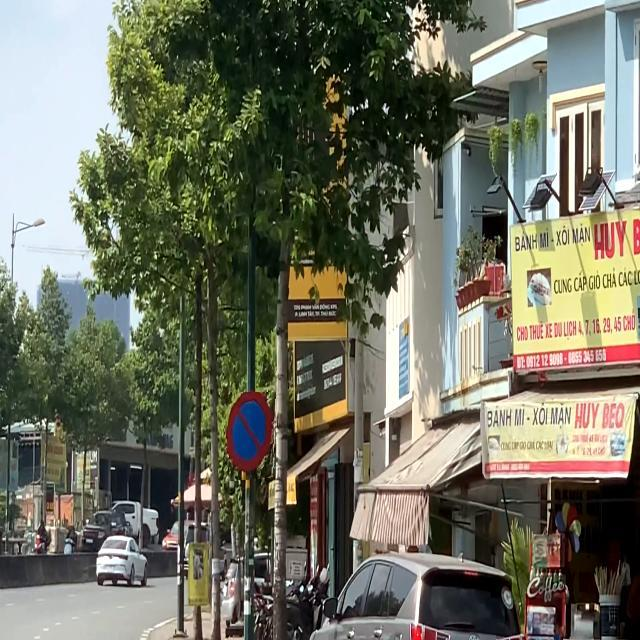P-131a: (224, 392, 277, 482)
